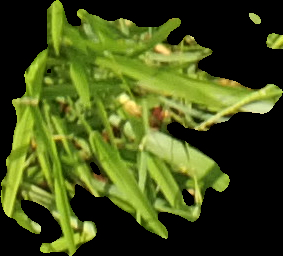grass: (1, 1, 281, 254)
